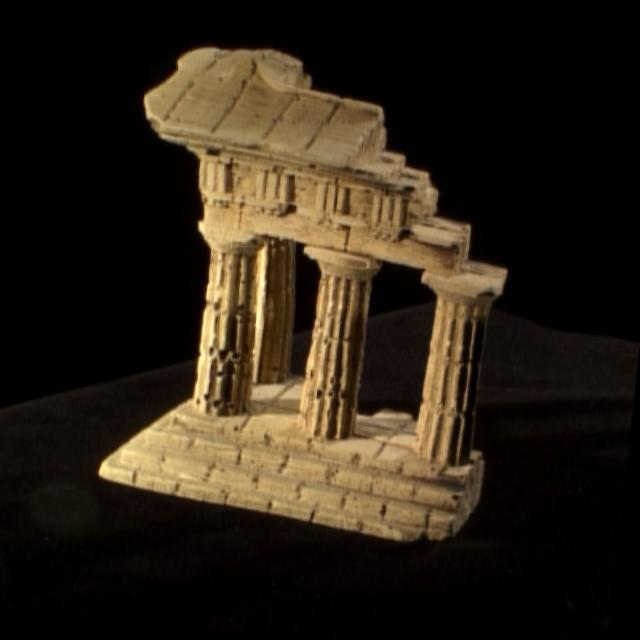Instance-Segmentation: (100, 49, 506, 540)
